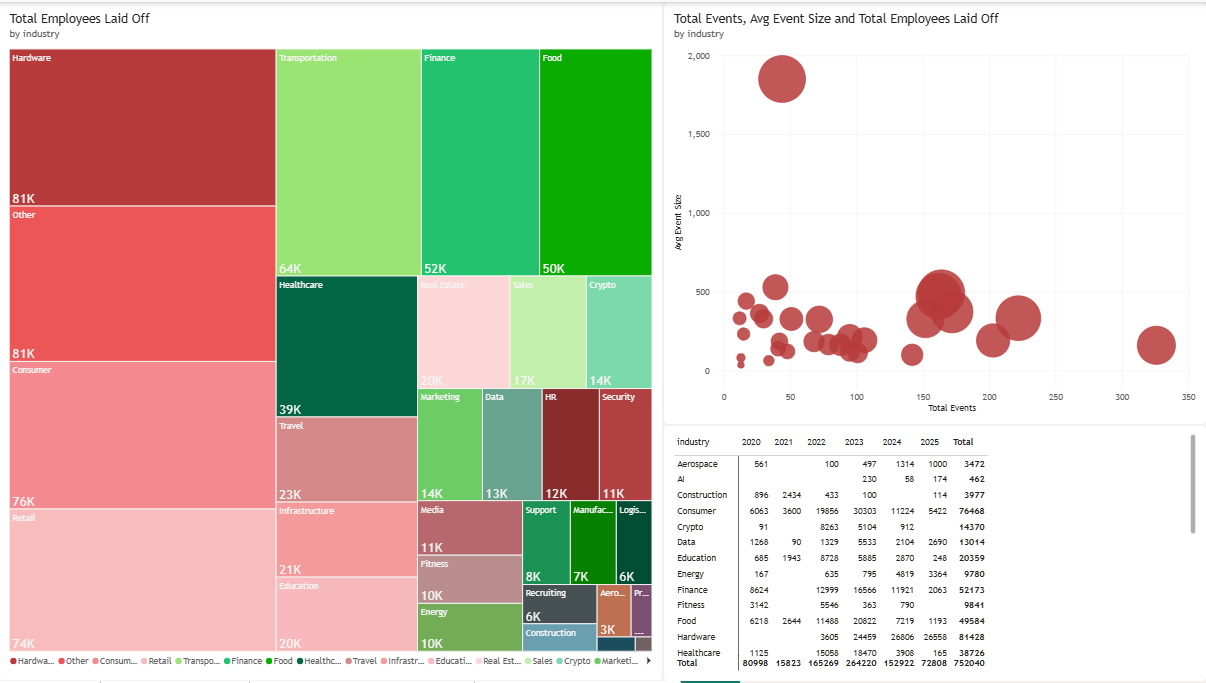

What the dashboard file says about the page in this screenshot:
{"tool":"powerbi","page":{"name":"Industry Breakdown","canvas":[1920,1080],"ordinal":2},"visuals":[{"type":"treemap","fields":{"Group":["Fact_Layoffs_data_events.industry"],"Values":["Measures Table.Total Employees Laid Off"]},"box":[0,0,1056,1080],"z":0},{"type":"scatterChart","fields":{"Category":["Fact_Layoffs_data_events.industry"],"Size":["Measures Table.Total Employees Laid Off"],"X":["Measures Table.Total Events"],"Y":["Measures Table.Avg Event Size"]},"box":[1056,0,864,672],"z":1},{"type":"pivotTable","fields":{"Columns":["Date Table.Year"],"Rows":["Fact_Layoffs_data_events.industry"],"Values":["Sum(Fact_Layoffs_data_events.laid_off_count)"]},"box":[1056,672,864,408],"z":2}]}

Visuals, with their boxes in screenshot pixels (x1, y1, x2, y2), scaled from the page's 1920x1080 canvas onto the 1206x683 screenshot:
treemap - Fact_Layoffs_data_events.industry x Measures Table.Total Employees Laid Off: locate(0, 0, 663, 682)
scatterChart - Fact_Layoffs_data_events.industry x Measures Table.Total Employees Laid Off: locate(663, 0, 1205, 425)
pivotTable - Date Table.Year x Fact_Layoffs_data_events.industry: locate(663, 425, 1205, 682)
